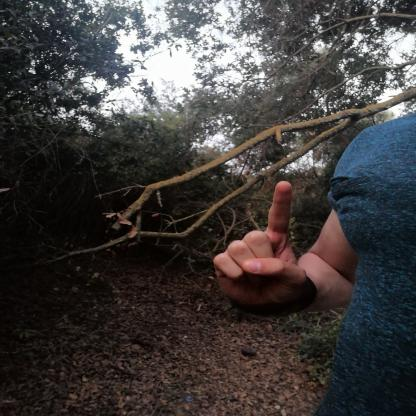BAA: (206, 171, 312, 318)
